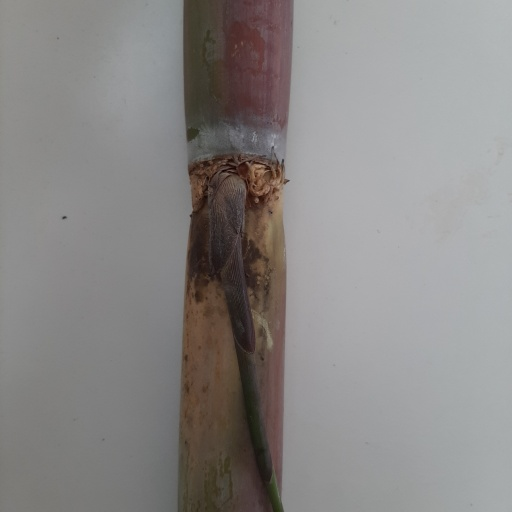Sprouted_Bud: (203, 169, 246, 277)
